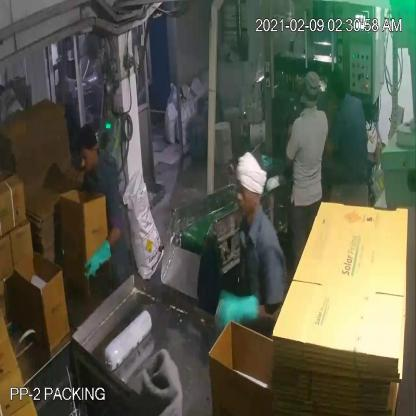glove: (211, 284, 266, 331), (82, 238, 117, 278)
